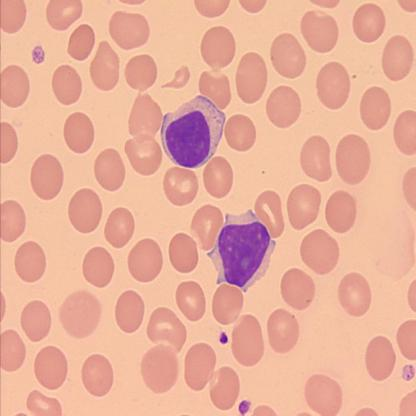Atypical lymphocyte: (206, 208, 276, 291), (160, 94, 227, 170)
